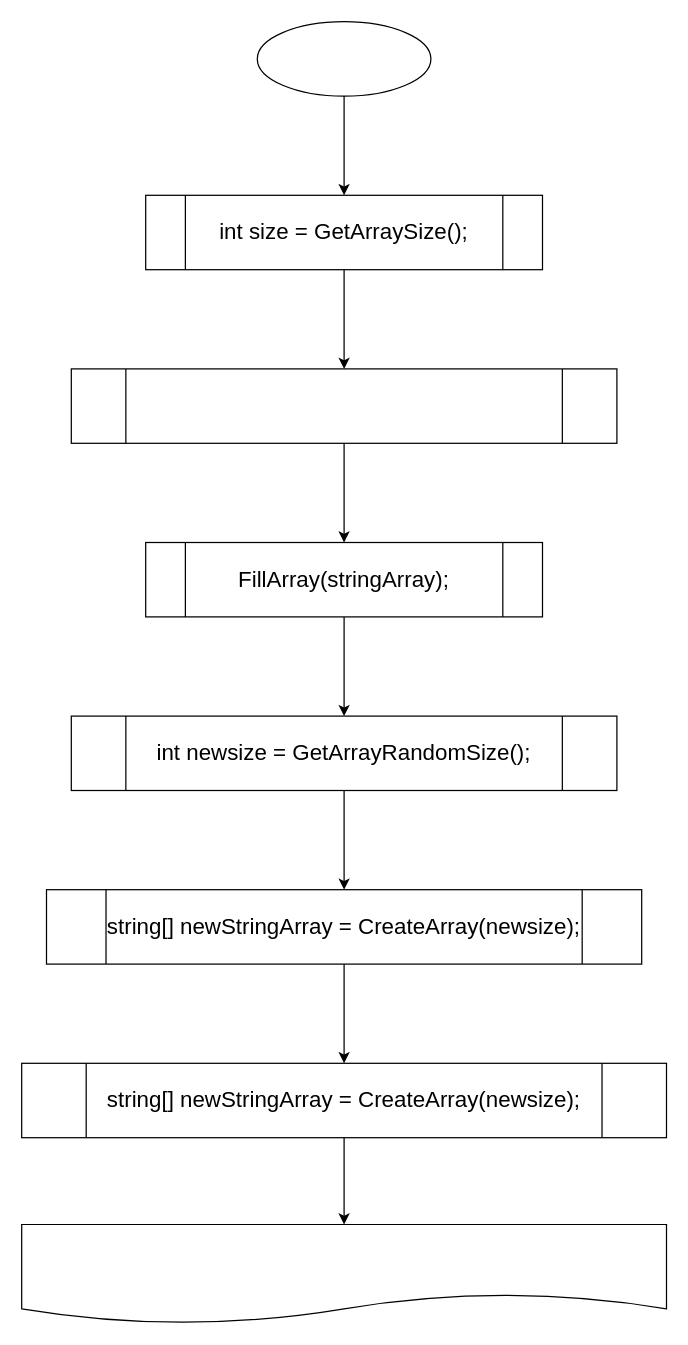
The diagram is 688 pixels wide and 1345 high, and some of its shapes have lost their labels. Each missing label, with the centre of its shape:
Console.WriteLine("Новый массив строк: ");: point (343, 1273)
Start: point (343, 58)
string[] stringArray = CreateArray(size);: point (343, 405)
